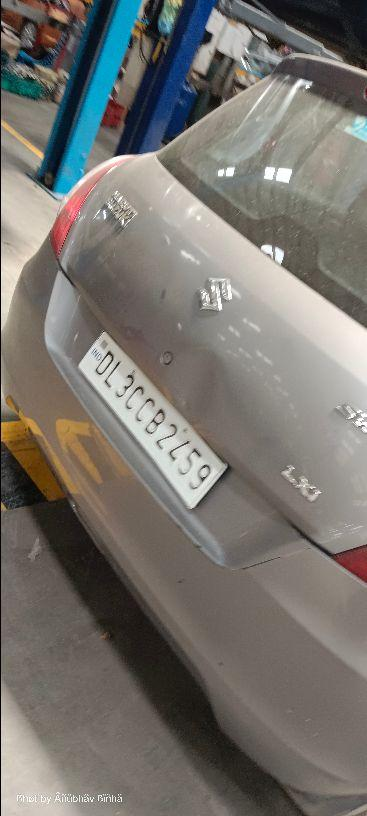license_plate: (76, 329, 229, 510)
